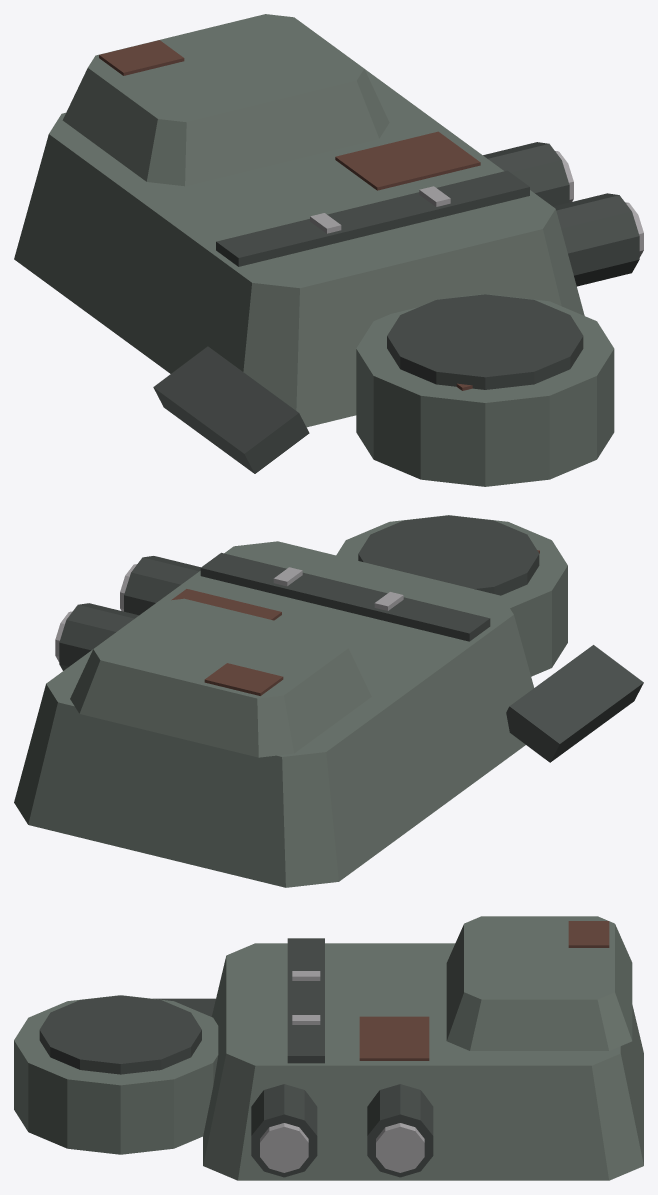
Rendered from warwalker_torso_b6.obj.
3 views of the same model, one above another, from view 1: azimuth 30°, elevation 25°; view 2: azimuth 150°, elevation 25°; view 3: azimuth 270°, elevation 25° (orthographic). The views are drawn at different scales.
Visible parts, largest first — view 1: warwalker_torso_b6_0, warwalker_torso_b6_1, warwalker_torso_b6_5, warwalker_torso_b6_6, warwalker_torso_b6_11, warwalker_torso_b6_2, warwalker_torso_b6_7, warwalker_torso_b6_12, warwalker_torso_b6_9, warwalker_torso_b6_13; view 2: warwalker_torso_b6_0, warwalker_torso_b6_1, warwalker_torso_b6_6, warwalker_torso_b6_11, warwalker_torso_b6_2, warwalker_torso_b6_5, warwalker_torso_b6_9, warwalker_torso_b6_7, warwalker_torso_b6_13, warwalker_torso_b6_12; view 3: warwalker_torso_b6_0, warwalker_torso_b6_1, warwalker_torso_b6_5, warwalker_torso_b6_6, warwalker_torso_b6_2, warwalker_torso_b6_9, warwalker_torso_b6_7, warwalker_torso_b6_12, warwalker_torso_b6_8, warwalker_torso_b6_10, warwalker_torso_b6_13, warwalker_torso_b6_11.
Boxes of the visible parts, left/top/right/bottom form: warwalker_torso_b6_0: left=14, top=69, right=584, bottom=427; warwalker_torso_b6_1: left=62, top=14, right=389, bottom=186; warwalker_torso_b6_5: left=356, top=294, right=614, bottom=486; warwalker_torso_b6_6: left=387, top=294, right=583, bottom=389; warwalker_torso_b6_11: left=153, top=346, right=309, bottom=473; warwalker_torso_b6_2: left=216, top=170, right=529, bottom=266; warwalker_torso_b6_7: left=553, top=193, right=639, bottom=286; warwalker_torso_b6_12: left=335, top=131, right=480, bottom=190; warwalker_torso_b6_9: left=483, top=142, right=569, bottom=206; warwalker_torso_b6_13: left=99, top=40, right=184, bottom=75; warwalker_torso_b6_0: left=14, top=541, right=533, bottom=887; warwalker_torso_b6_1: left=70, top=598, right=371, bottom=757; warwalker_torso_b6_6: left=358, top=515, right=539, bottom=595; warwalker_torso_b6_11: left=506, top=645, right=643, bottom=762; warwalker_torso_b6_2: left=200, top=552, right=490, bottom=641; warwalker_torso_b6_5: left=336, top=515, right=567, bottom=676; warwalker_torso_b6_9: left=59, top=603, right=138, bottom=670; warwalker_torso_b6_7: left=124, top=556, right=200, bottom=615; warwalker_torso_b6_13: left=204, top=663, right=283, bottom=695; warwalker_torso_b6_12: left=171, top=589, right=281, bottom=620; warwalker_torso_b6_0: left=203, top=943, right=643, bottom=1180; warwalker_torso_b6_1: left=446, top=916, right=632, bottom=1050; warwalker_torso_b6_5: left=14, top=995, right=218, bottom=1154; warwalker_torso_b6_6: left=39, top=995, right=201, bottom=1074; warwalker_torso_b6_2: left=287, top=938, right=324, bottom=1063; warwalker_torso_b6_9: left=367, top=1084, right=433, bottom=1177; warwalker_torso_b6_7: left=251, top=1084, right=317, bottom=1177; warwalker_torso_b6_12: left=359, top=1016, right=429, bottom=1060; warwalker_torso_b6_8: left=260, top=1123, right=308, bottom=1172; warwalker_torso_b6_10: left=376, top=1123, right=424, bottom=1172; warwalker_torso_b6_13: left=568, top=921, right=609, bottom=947; warwalker_torso_b6_11: left=153, top=998, right=215, bottom=1016.
Bounding box in the file's own units: 3.86 × 1.45 × 5.43.
